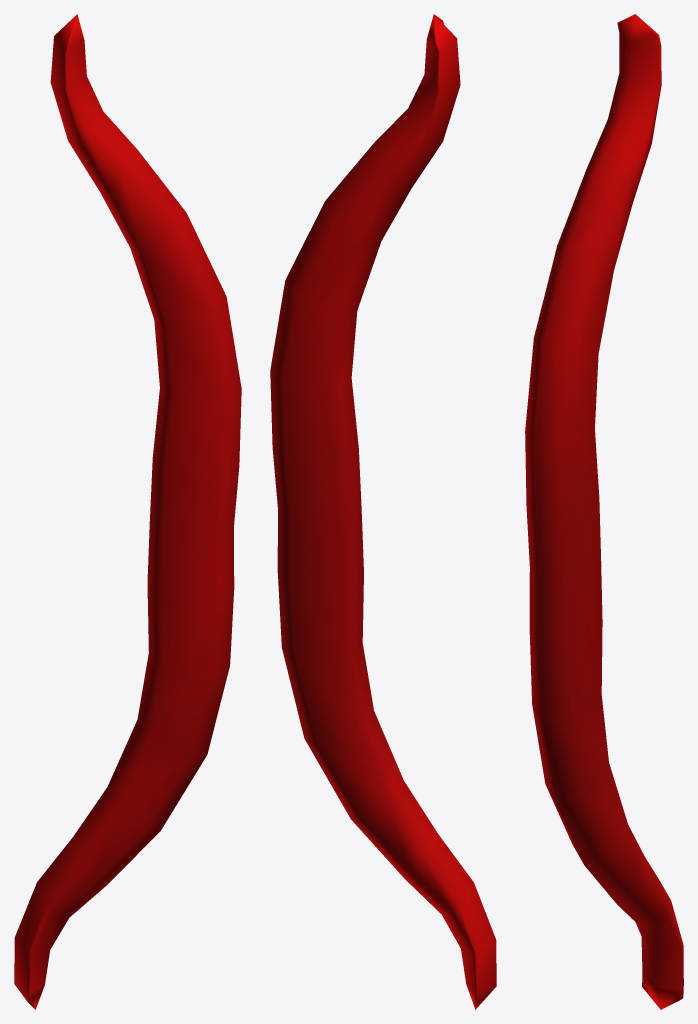
The model's file is Bow.fbx.
3 renders of one model, left to right at view 1: azimuth 30°, elevation 25°; view 2: azimuth 210°, elevation 25°; view 3: azimuth 270°, elevation 25°, orthographic.
Visible parts, largest first — view 1: bow #1655753; view 2: bow #1655753; view 3: bow #1655753.
Part boxes in pixels (<box>): bow #1655753: <box>14,14,241,1009</box>; bow #1655753: <box>270,14,496,1009</box>; bow #1655753: <box>525,14,683,1009</box>.
Bounding box in the file's own units: 13.16 × 77.67 × 11.06.
